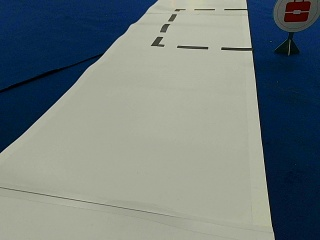company: (273, 0, 317, 30)
